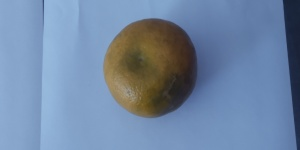BAD: (105, 17, 201, 119)
